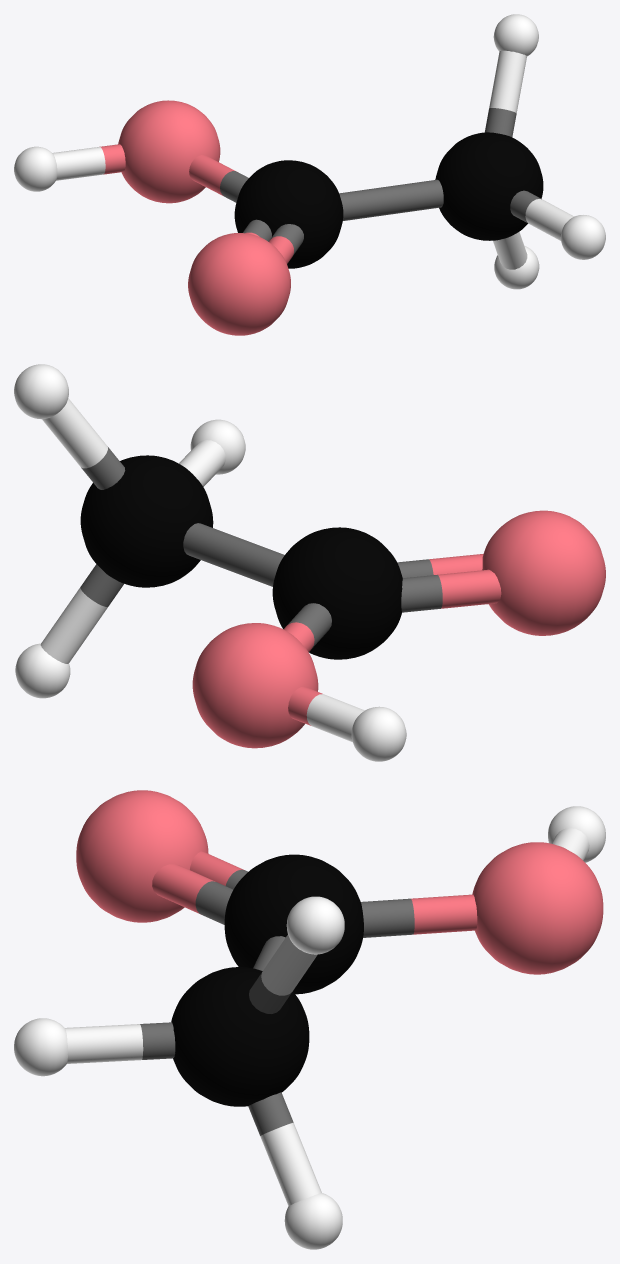
The model's file is ethanoic_acid.glb.
3 renders of one model, top to bottom at view 1: azimuth 30°, elevation 25°; view 2: azimuth 150°, elevation 25°; view 3: azimuth 270°, elevation 25°, orthographic. The views are drawn at different scales.
Visible parts, largest first — view 1: Hydrogen_ball.004, Hydrogen_sticks_cylinder.004; view 2: Hydrogen_ball.004, Hydrogen_sticks_cylinder.004; view 3: Hydrogen_ball.004, Hydrogen_sticks_cylinder.004.
Part boxes in pixels (x1=…): Hydrogen_ball.004: x1=14, y1=14, x2=605, y2=335; Hydrogen_sticks_cylinder.004: x1=52, y1=50, x2=573, y2=269; Hydrogen_ball.004: x1=14, y1=364, x2=605, y2=761; Hydrogen_sticks_cylinder.004: x1=40, y1=398, x2=501, y2=742; Hydrogen_ball.004: x1=14, y1=790, x2=605, y2=1249; Hydrogen_sticks_cylinder.004: x1=65, y1=828, x2=589, y2=1205.
Bounding box in the file's own units: 3.42 × 2.12 × 3.26.
